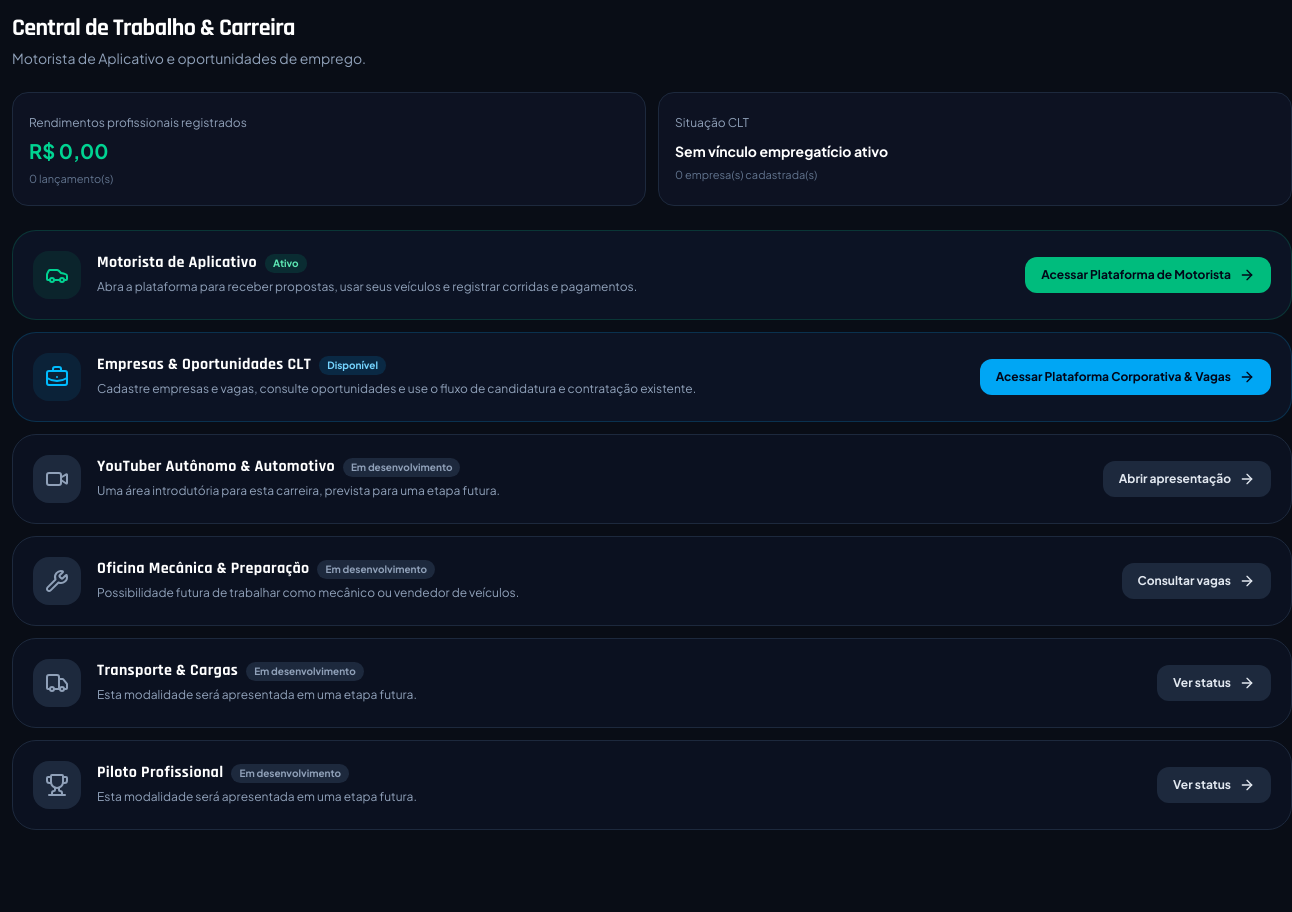
Test: Central de Trabalho & Carreira (JobsPage) › mantém a Oficina como área futura e informa quando não há vagas
This screenshot has width=1292, height=912.
What coordinates should you click on to do the following:
click the button "Consultar vagas"
I would click on:
 (1196, 581)
Its box is x1=1122 y1=563 x2=1271 y2=599.
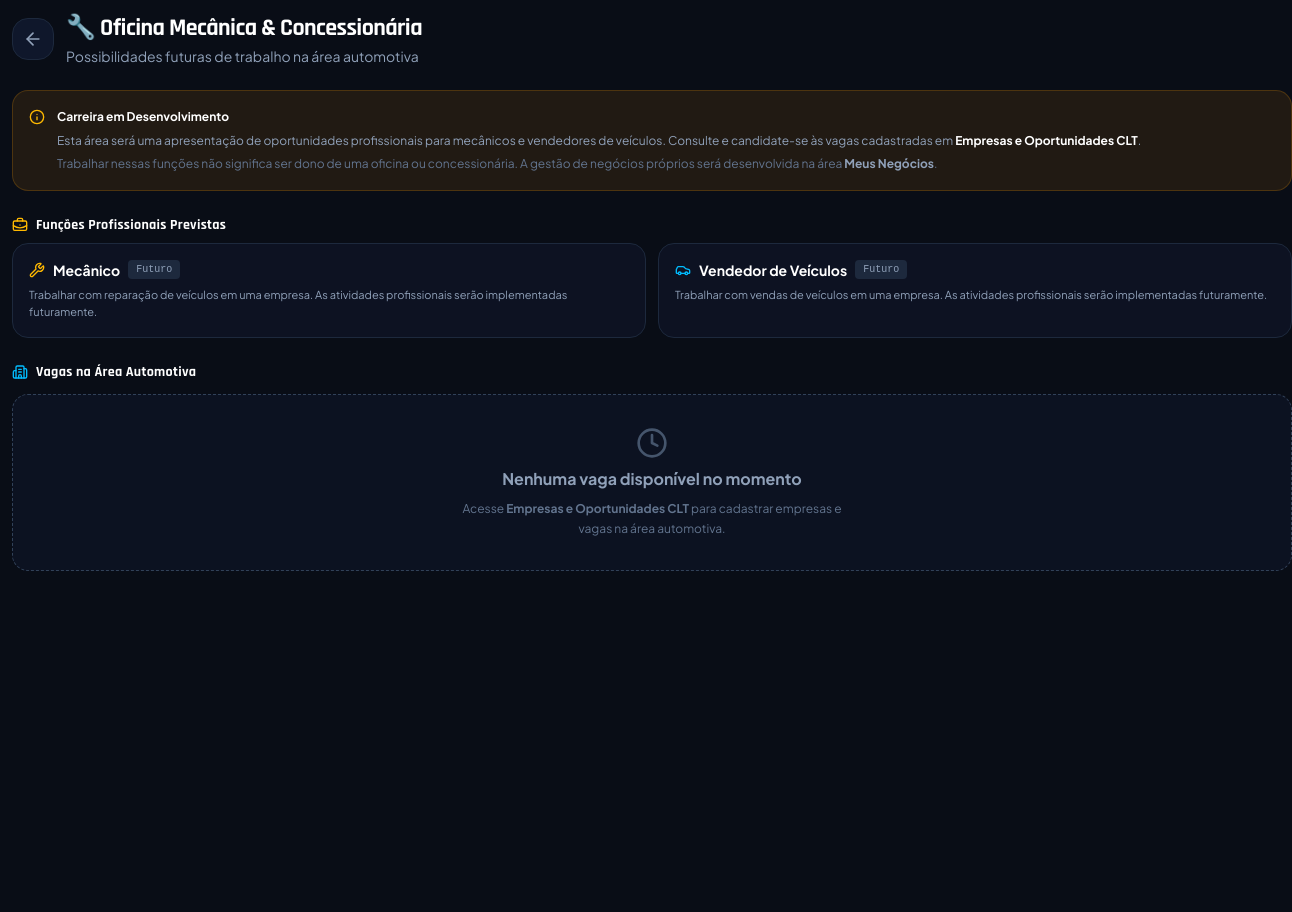
Expected: the text "Vendedor de Veículos" is shown, x1=699 y1=260 x2=847 y2=280
Expected: the text "Nenhuma vaga disponível no momento" is shown, x1=502 y1=468 x2=802 y2=489
